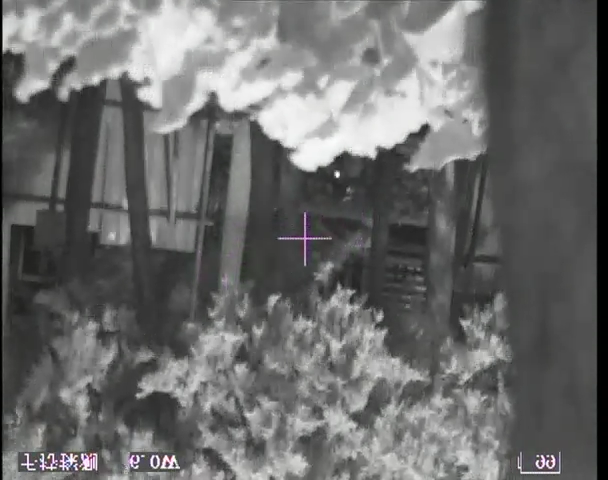my: (333, 169, 342, 179)
